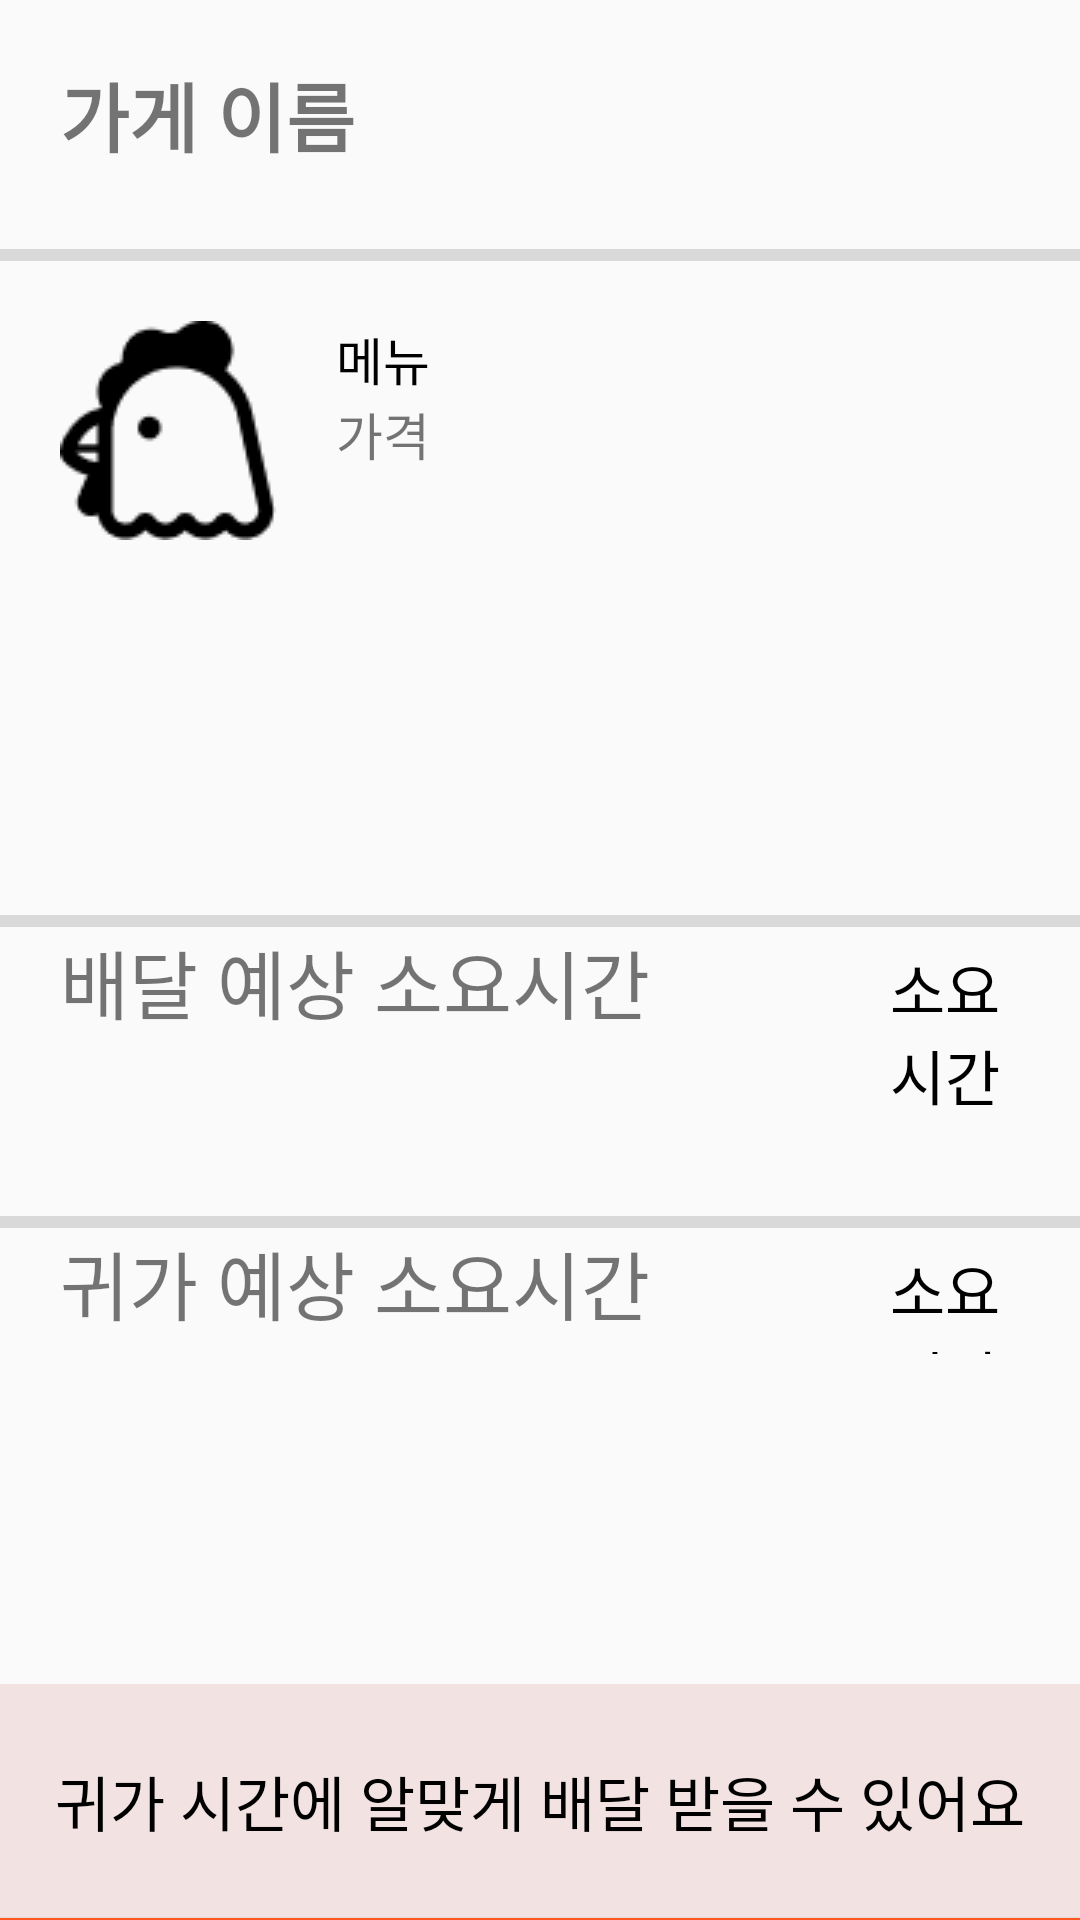

Icon click points for this 1080x1920 phone screenshot, format point (x, y):
chicken: point (168, 430)
